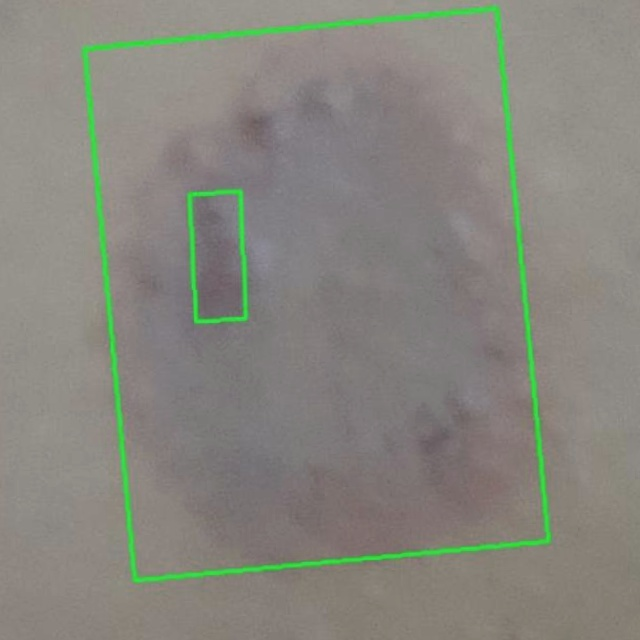Eczema: (84, 8, 549, 581), (190, 192, 246, 321)
